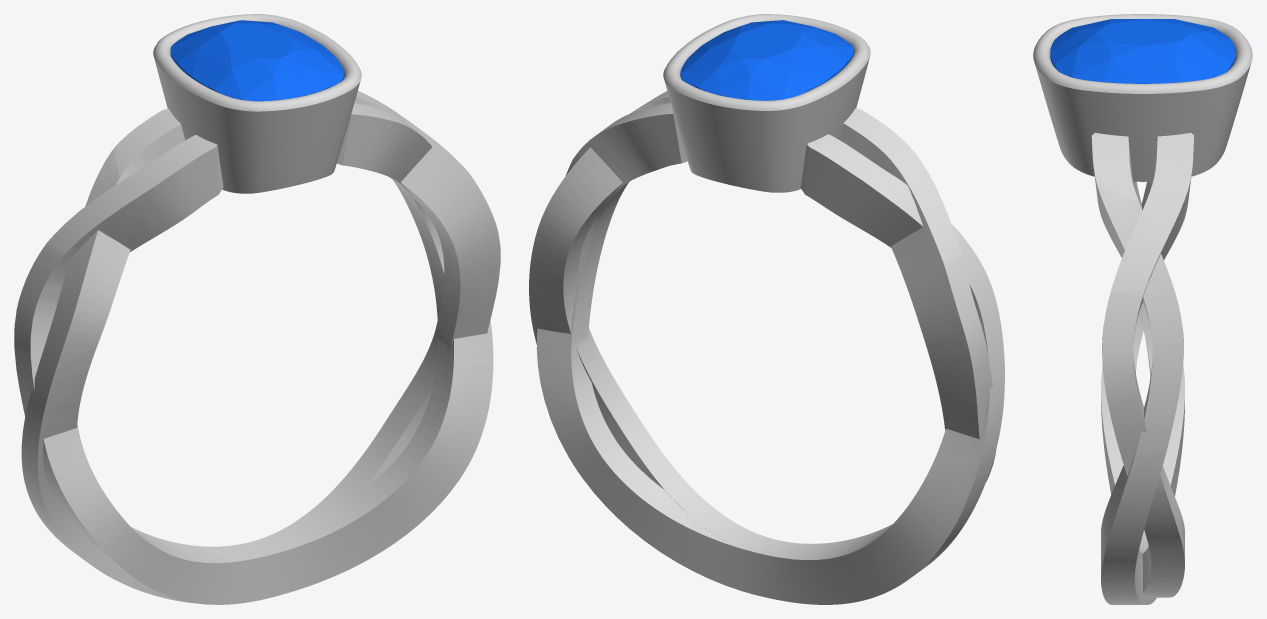
Rendered from bluesapphire-cushion-platinum-bezelset-twist-nosidestones.glb.
3 renders of one model, left to right at view 1: azimuth 30°, elevation 25°; view 2: azimuth 150°, elevation 25°; view 3: azimuth 270°, elevation 25°, orthographic.
Parts seen in each view (by area): view 1: metal.002, stone; view 2: metal.002, stone; view 3: metal.002, stone.
Part boxes in pixels (x1,y1,x2,y2): metal.002: [14, 14, 500, 604]; stone: [170, 20, 344, 101]; metal.002: [529, 14, 1004, 604]; stone: [680, 20, 853, 100]; metal.002: [1033, 14, 1252, 604]; stone: [1050, 19, 1235, 83].
Size of the model in its own units: 19.97 by 23.14 by 8.45.
